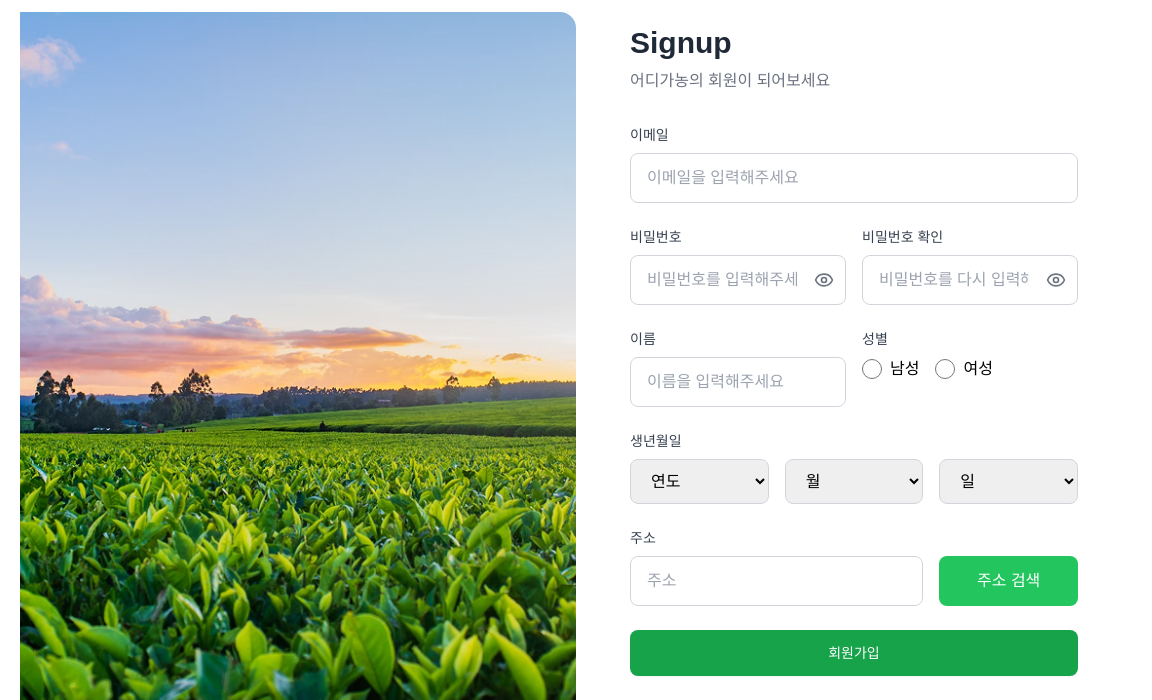
Test: SignupPage › validates password strength correctly
짧은 비밀번호 입력
Type "weak" into the password field labelled "비밀번호" at (738, 280), box left=630, top=254, right=846, bottom=304
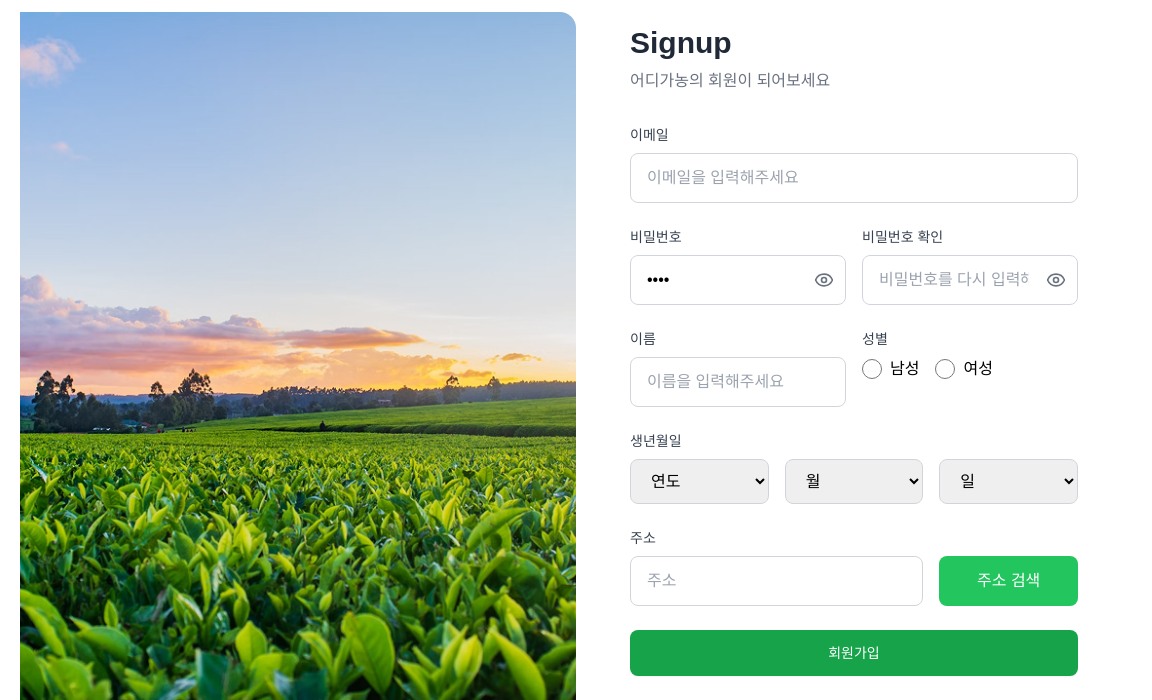
Click the button "회원가입" at (854, 652), box left=630, top=630, right=1078, bottom=676
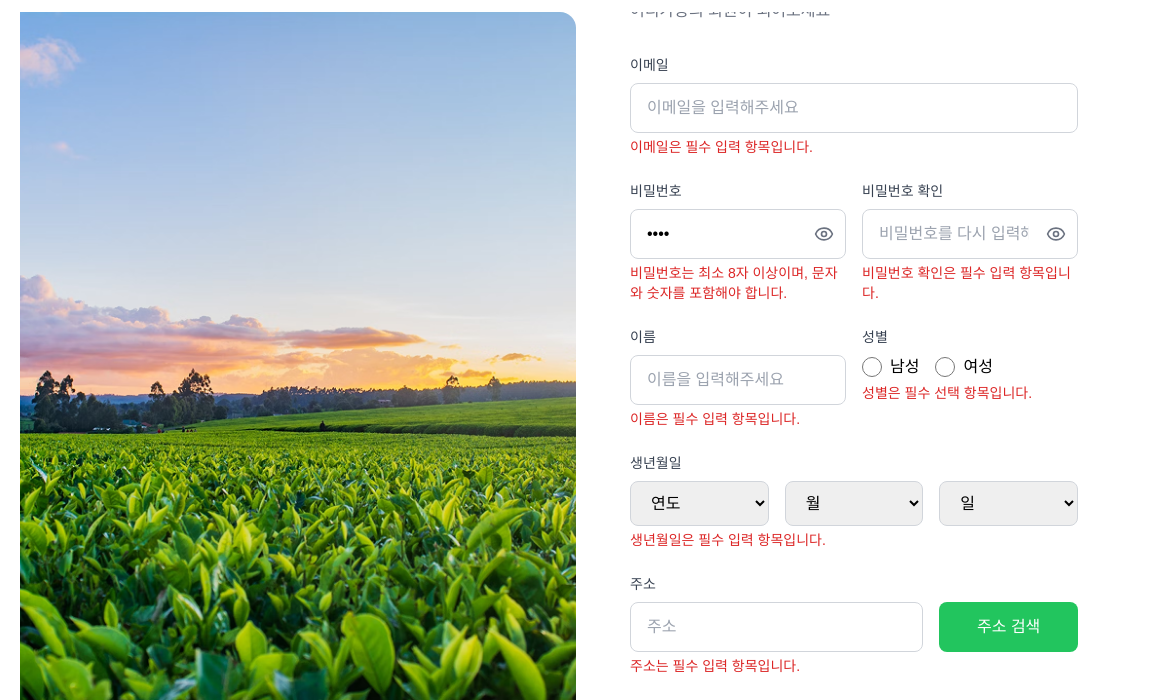
Now the text "비밀번호는 최소 8자 이상이며, 문자와 숫자를 포함해야 합니다." is shown, box left=630, top=262, right=846, bottom=302
